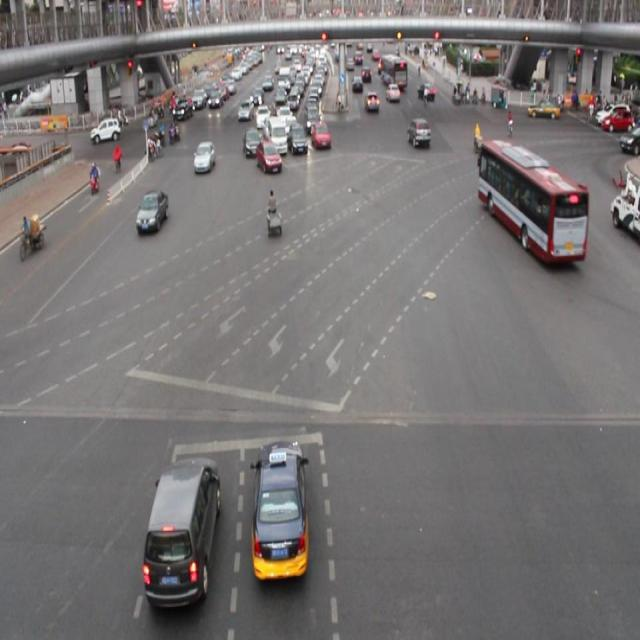car: (249, 443, 309, 581), (136, 188, 168, 234), (406, 114, 429, 152), (192, 138, 215, 176), (256, 142, 280, 176), (287, 124, 307, 157), (242, 126, 262, 158), (310, 120, 331, 150)
truck: (144, 453, 218, 610), (265, 116, 288, 154)
van: (477, 140, 583, 262)
